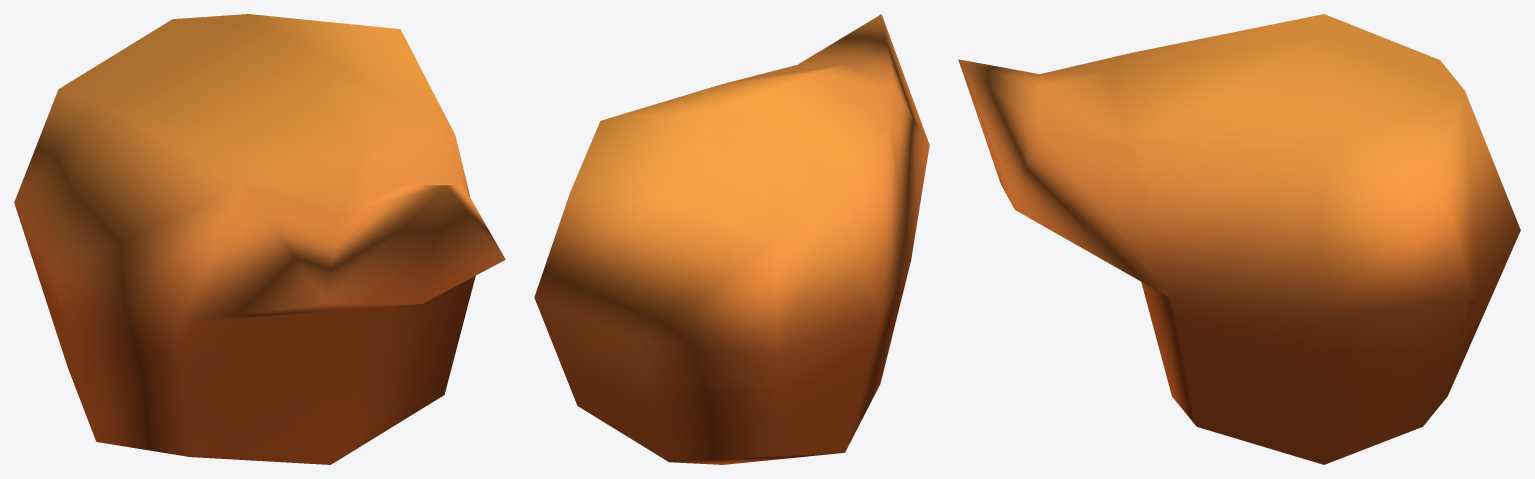
The model's file is hair_cowlick_mesh.fbx.
The picture shows the model from 3 angles, left to right: view 1: azimuth 30°, elevation 25°; view 2: azimuth 150°, elevation 25°; view 3: azimuth 270°, elevation 25°; orthographic projection. The views are drawn at different scales.
Visible parts, largest first — view 1: hair_cowlick_mesh; view 2: hair_cowlick_mesh; view 3: hair_cowlick_mesh.
Part boxes in pixels (left/top/right/bottom): hair_cowlick_mesh: left=14, top=14, right=505, bottom=464; hair_cowlick_mesh: left=534, top=14, right=929, bottom=464; hair_cowlick_mesh: left=958, top=14, right=1520, bottom=464.
Bounding box in the file's own units: 23.63 × 25.46 × 31.64.
